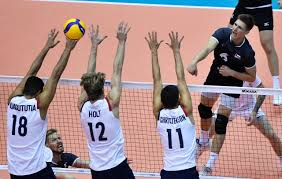ball: (63, 18, 86, 41)
